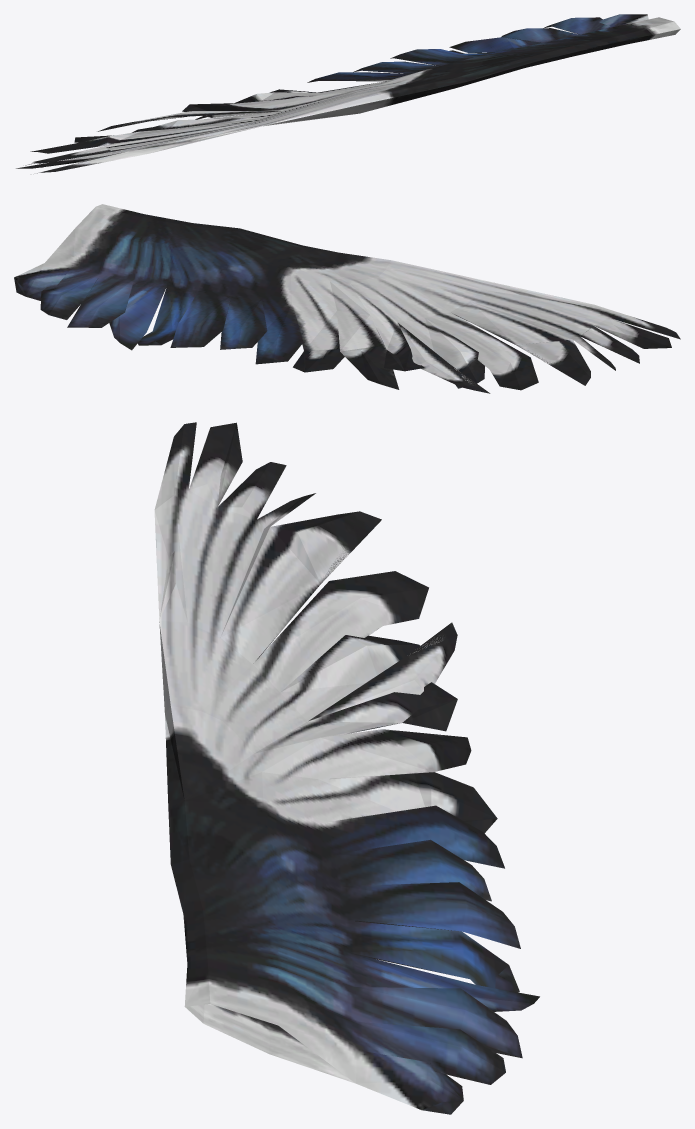
The model's file is Ala_Derecha_Pajaro.obj.
The picture shows the model from 3 angles, top to bottom: view 1: azimuth 30°, elevation 25°; view 2: azimuth 150°, elevation 25°; view 3: azimuth 270°, elevation 25°; orthographic projection. The views are drawn at different scales.
Parts seen in each view (by area): view 1: polySurface36; view 2: polySurface36; view 3: polySurface36.
Boxes of the visible parts, x1,y1,x2,y2 form: polySurface36: [16, 14, 680, 173]; polySurface36: [14, 204, 680, 393]; polySurface36: [154, 422, 539, 1114].
Bounding box in the file's own units: 0.3375 × 0.035 × 0.0922.
Materials: 1 (1 with a texture image).
